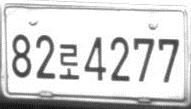2: (108, 36, 130, 81), (35, 35, 56, 79)
4: (84, 35, 106, 81)
7: (132, 37, 156, 82), (158, 37, 180, 84)
8: (11, 34, 32, 78)
로: (59, 43, 79, 80)
